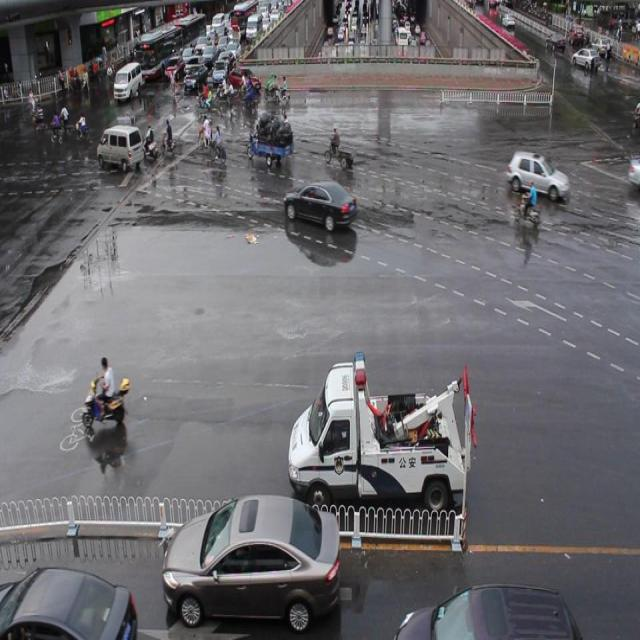bus: (287, 352, 473, 518)
car: (165, 493, 339, 629), (1, 562, 137, 640), (397, 583, 579, 640), (284, 181, 356, 229), (506, 151, 568, 201)
